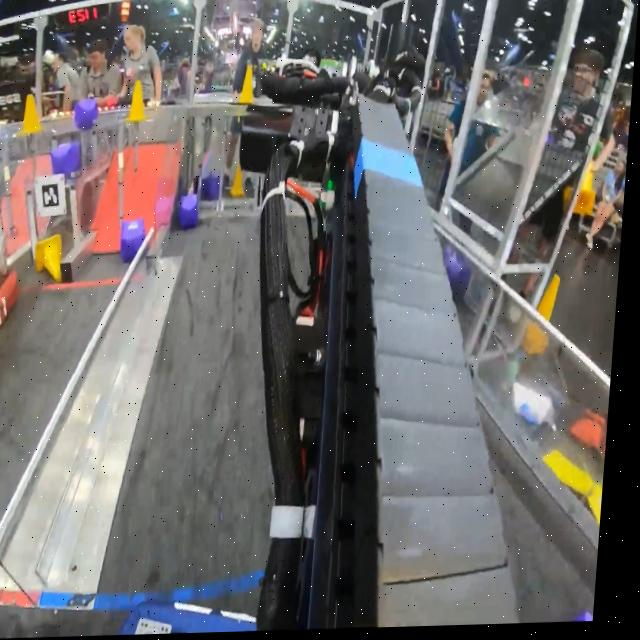robot: (0, 200, 29, 383)
